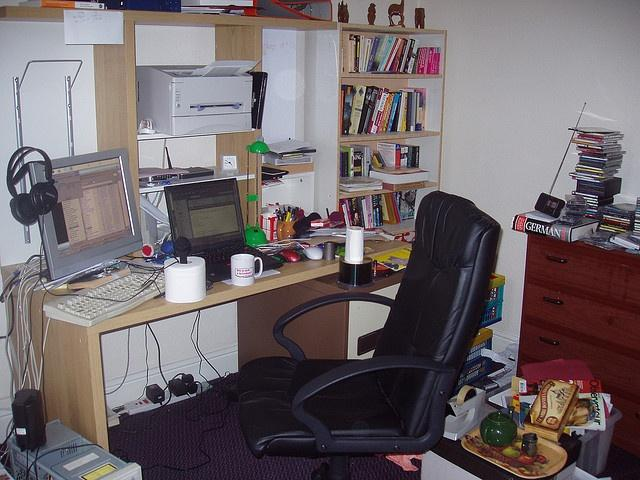AIO PC-Monitor-TV: (27, 147, 143, 279)
Kursi: (237, 190, 501, 479)
Printer: (136, 57, 261, 134)
Rak: (336, 23, 446, 235)
